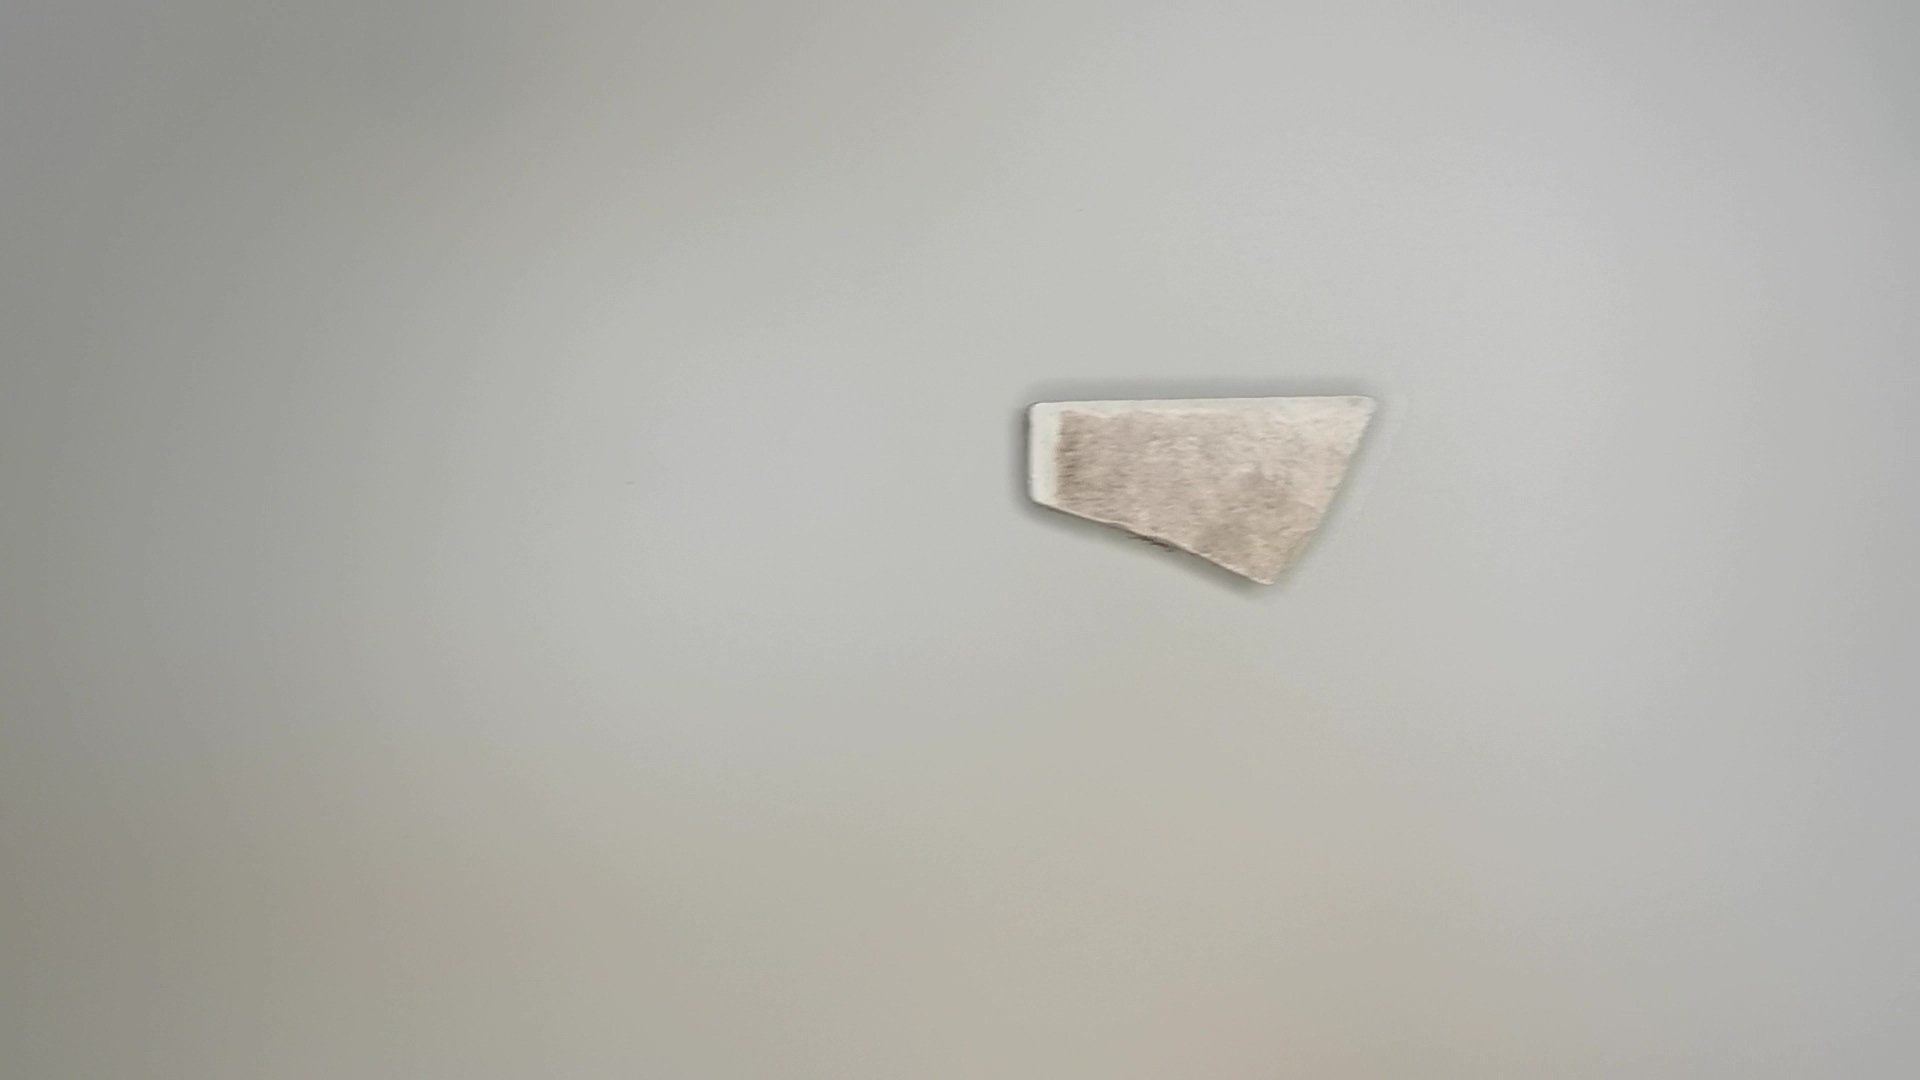ceramic: (1011, 385, 1396, 600)
